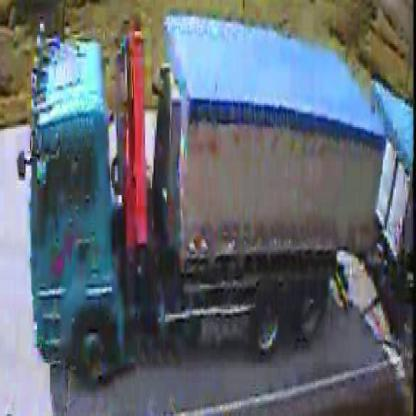container: (32, 9, 384, 366)
